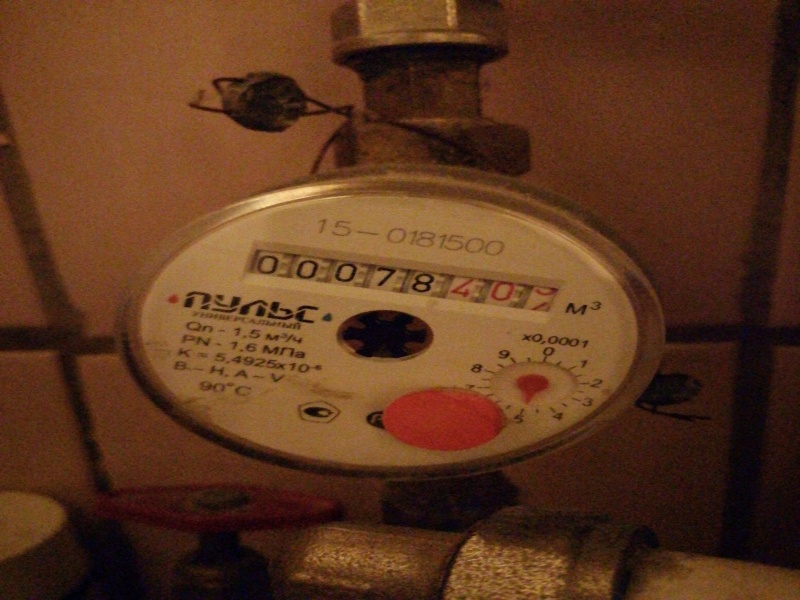meter: (246, 242, 562, 309)
